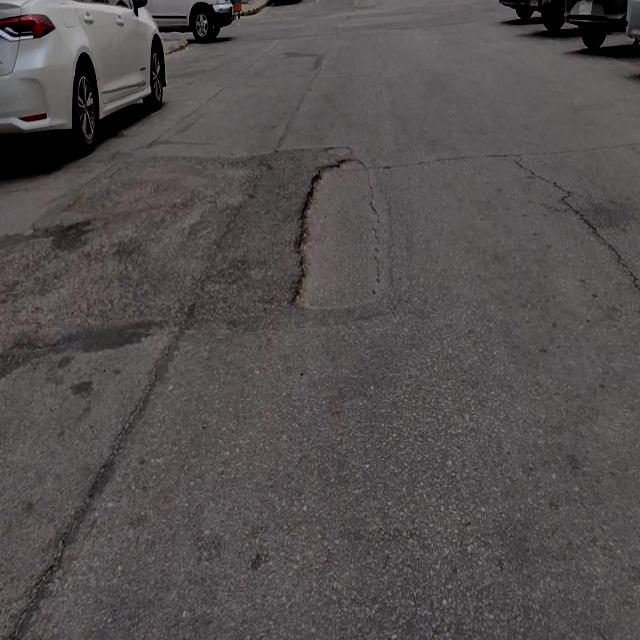Potholes: (291, 157, 382, 313)
